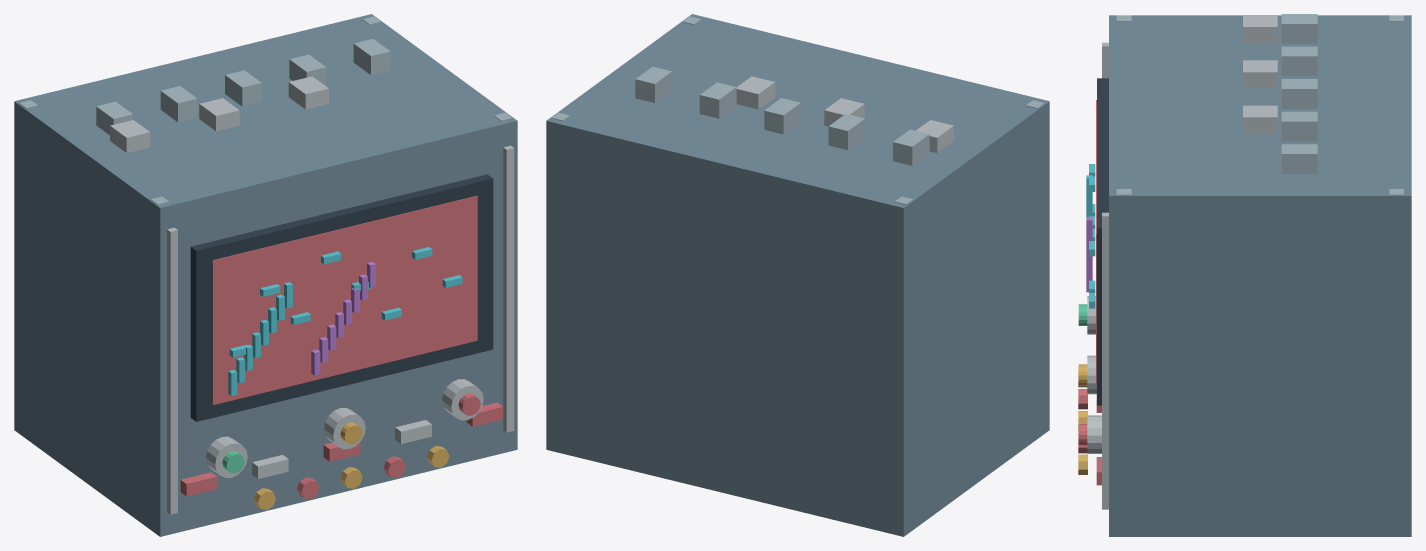
Rendered from 41_L72_ReactantOverlapMonitor.glb.
3 renders of one model, left to right at view 1: azimuth 30°, elevation 25°; view 2: azimuth 150°, elevation 25°; view 3: azimuth 270°, elevation 25°, orthographic. The views are drawn at different scales.
Parts seen in each view (by area): view 1: ReactantOverlapMonitor_Part_000, ReactantOverlapMonitor_Part_008, ReactantOverlapMonitor_Part_007, ReactantOverlapMonitor_Part_006, ReactantOverlapMonitor_Part_005, ReactantOverlapMonitor_Part_027, ReactantOverlapMonitor_Part_030, ReactantOverlapMonitor_Part_028, ReactantOverlapMonitor_Part_023, ReactantOverlapMonitor_Part_024, ReactantOverlapMonitor_Part_025, ReactantOverlapMonitor_Part_019 (+7 smaller); view 2: ReactantOverlapMonitor_Part_000, ReactantOverlapMonitor_Part_029, ReactantOverlapMonitor_Part_027, ReactantOverlapMonitor_Part_030, ReactantOverlapMonitor_Part_026, ReactantOverlapMonitor_Part_028, ReactantOverlapMonitor_Part_025, ReactantOverlapMonitor_Part_023, ReactantOverlapMonitor_Part_024; view 3: ReactantOverlapMonitor_Part_000, ReactantOverlapMonitor_Part_007, ReactantOverlapMonitor_Part_006, ReactantOverlapMonitor_Part_027, ReactantOverlapMonitor_Part_029, ReactantOverlapMonitor_Part_026, ReactantOverlapMonitor_Part_028, ReactantOverlapMonitor_Part_030, ReactantOverlapMonitor_Part_025, ReactantOverlapMonitor_Part_023, ReactantOverlapMonitor_Part_024, ReactantOverlapMonitor_Part_021.
Part boxes in pixels (bbox=[...]): ReactantOverlapMonitor_Part_000: bbox=[14, 14, 517, 536]; ReactantOverlapMonitor_Part_008: bbox=[212, 196, 477, 404]; ReactantOverlapMonitor_Part_007: bbox=[190, 174, 493, 421]; ReactantOverlapMonitor_Part_006: bbox=[503, 145, 514, 432]; ReactantOverlapMonitor_Part_005: bbox=[167, 227, 177, 514]; ReactantOverlapMonitor_Part_027: bbox=[160, 86, 197, 122]; ReactantOverlapMonitor_Part_030: bbox=[353, 39, 390, 75]; ReactantOverlapMonitor_Part_028: bbox=[225, 70, 261, 106]; ReactantOverlapMonitor_Part_023: bbox=[110, 120, 150, 152]; ReactantOverlapMonitor_Part_024: bbox=[199, 98, 239, 131]; ReactantOverlapMonitor_Part_025: bbox=[288, 76, 328, 109]; ReactantOverlapMonitor_Part_019: bbox=[324, 408, 365, 449]; ReactantOverlapMonitor_Part_000: bbox=[546, 14, 1049, 536]; ReactantOverlapMonitor_Part_029: bbox=[699, 82, 736, 118]; ReactantOverlapMonitor_Part_027: bbox=[828, 114, 865, 149]; ReactantOverlapMonitor_Part_030: bbox=[635, 66, 672, 102]; ReactantOverlapMonitor_Part_026: bbox=[893, 129, 929, 165]; ReactantOverlapMonitor_Part_028: bbox=[764, 98, 800, 134]; ReactantOverlapMonitor_Part_025: bbox=[736, 76, 775, 109]; ReactantOverlapMonitor_Part_023: bbox=[916, 120, 953, 152]; ReactantOverlapMonitor_Part_024: bbox=[824, 98, 864, 126]; ReactantOverlapMonitor_Part_000: bbox=[1109, 15, 1411, 536]; ReactantOverlapMonitor_Part_007: bbox=[1097, 78, 1108, 405]; ReactantOverlapMonitor_Part_006: bbox=[1102, 212, 1108, 509]; ReactantOverlapMonitor_Part_027: bbox=[1281, 46, 1317, 76]; ReactantOverlapMonitor_Part_029: bbox=[1281, 111, 1317, 141]; ReactantOverlapMonitor_Part_026: bbox=[1281, 14, 1317, 43]; ReactantOverlapMonitor_Part_028: bbox=[1281, 79, 1317, 108]; ReactantOverlapMonitor_Part_030: bbox=[1281, 144, 1317, 173]; ReactantOverlapMonitor_Part_025: bbox=[1243, 105, 1277, 133]; ReactantOverlapMonitor_Part_023: bbox=[1243, 15, 1277, 42]; ReactantOverlapMonitor_Part_024: bbox=[1243, 60, 1277, 87]; ReactantOverlapMonitor_Part_021: bbox=[1087, 415, 1101, 453].
Size of the model in its own units: 0.99 by 0.9205 by 0.771.
